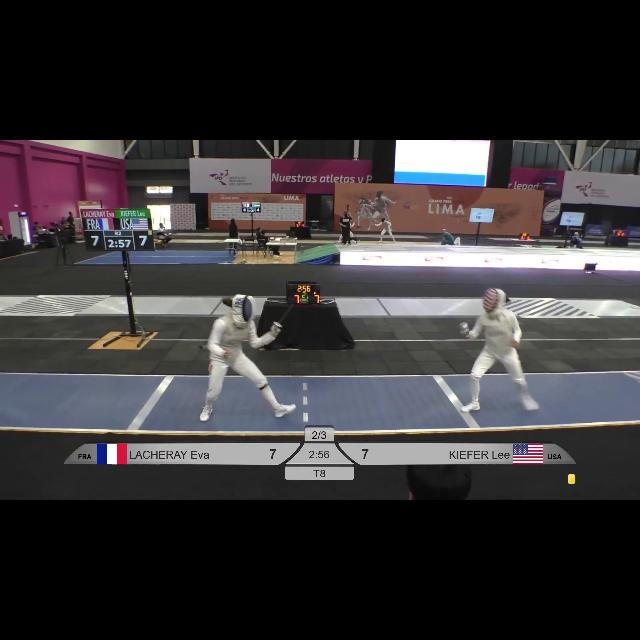blade: (273, 290, 305, 330)
